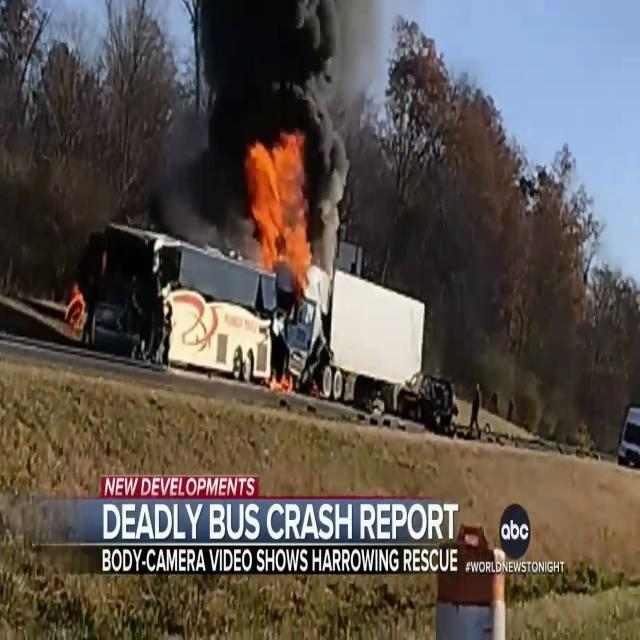Fire: (238, 118, 322, 296)
Smoke: (193, 0, 360, 167)
